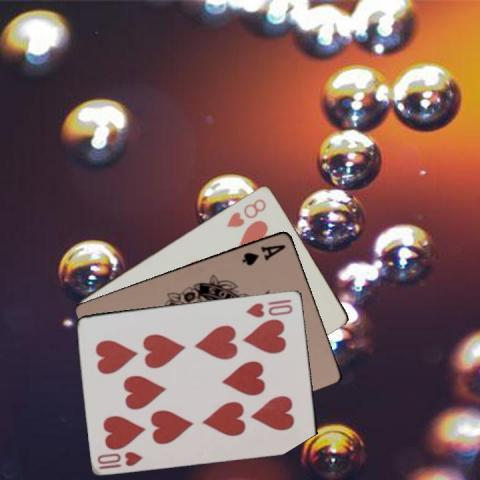10h: (243, 296, 295, 319), (95, 448, 144, 471)
8h: (223, 194, 268, 228)
As: (239, 240, 287, 266)
